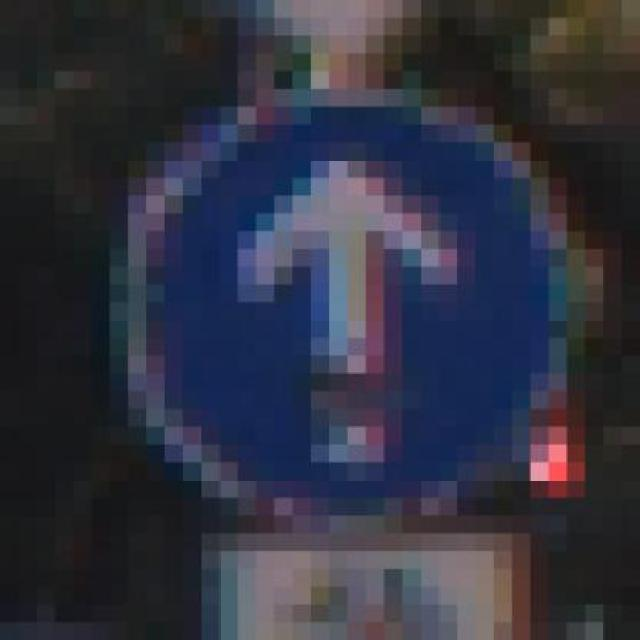Straight Ahead Only: (91, 106, 604, 534)
